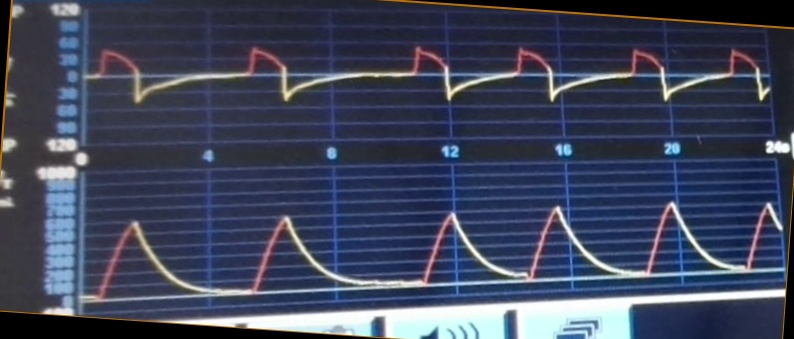Normal Flow: (86, 39, 770, 127)
Normal Volume: (86, 195, 783, 296)
